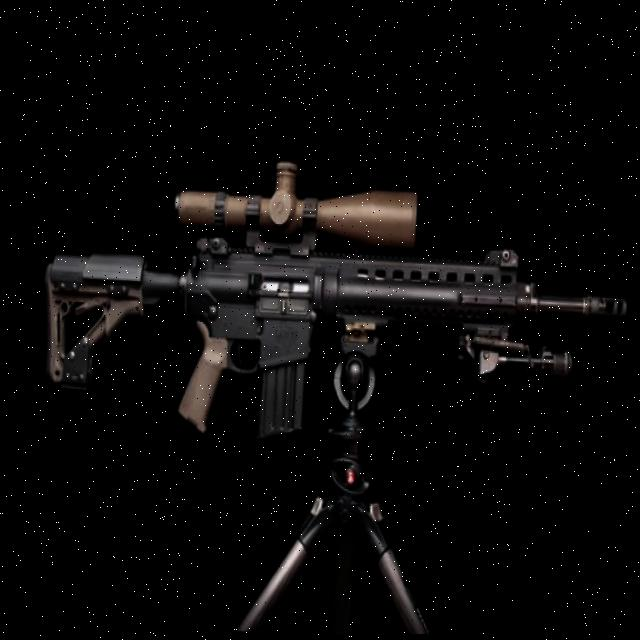firearm: (31, 138, 639, 469)
